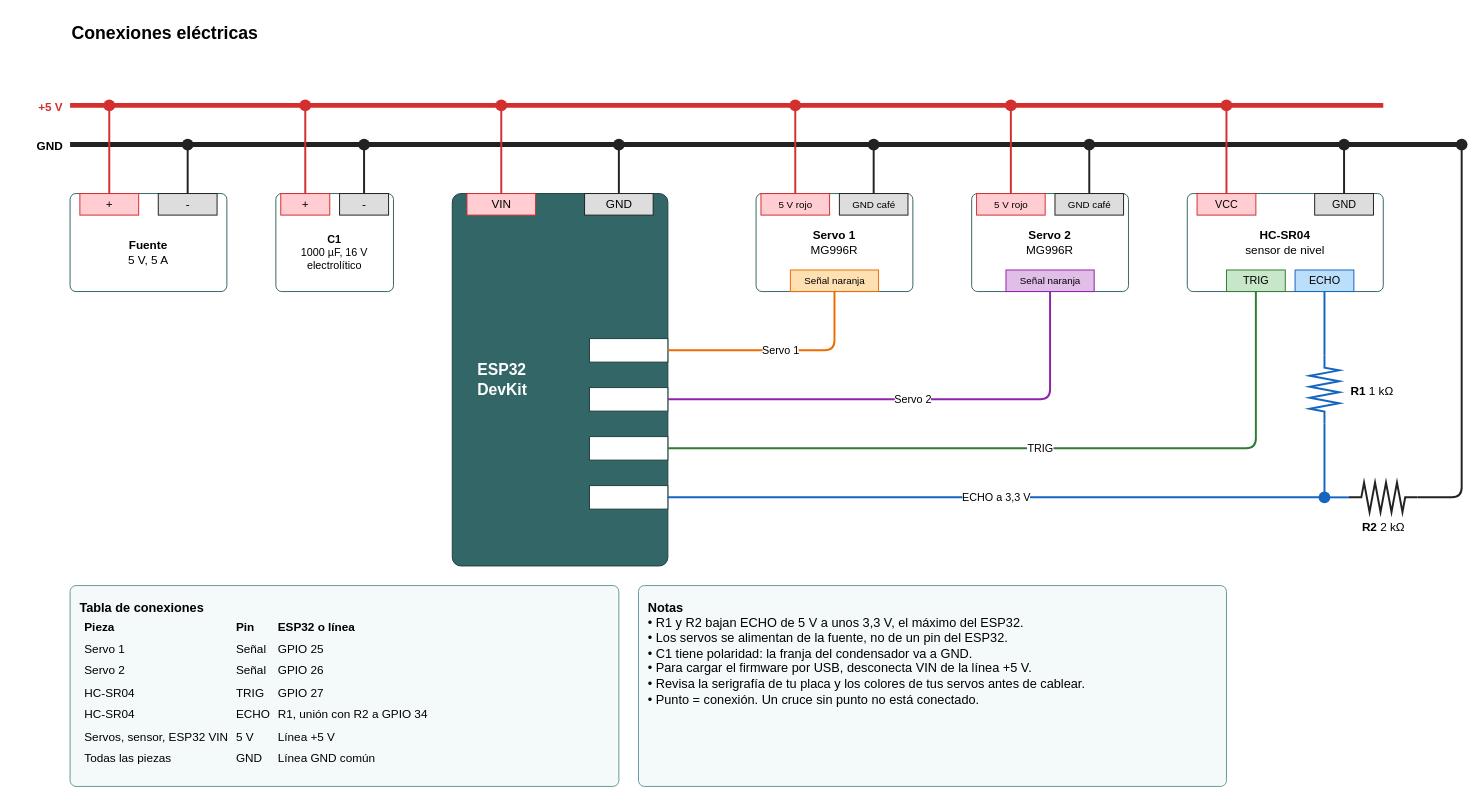
Some shapes in this 1484 by 804 pixel diagram are drawn without their labels. Each missing label, with the centre of its shape:
"GPIO 25" belongs at point 628,350.
"GPIO 26" belongs at point 628,399.
"GPIO 27" belongs at point 628,448.
"GPIO 34" belongs at point 628,497.
